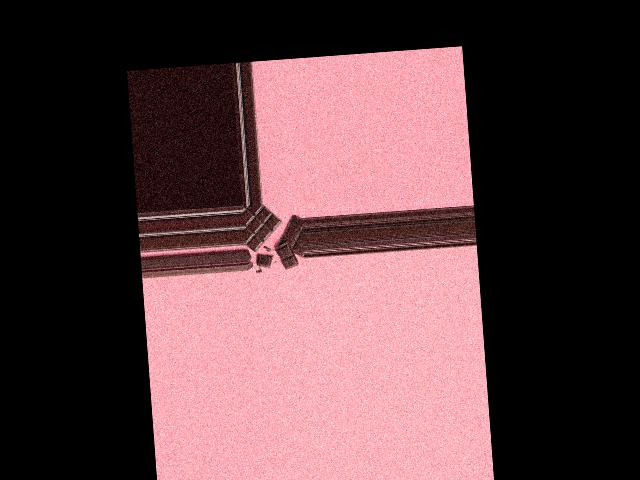chocolate: (242, 200, 301, 268)
